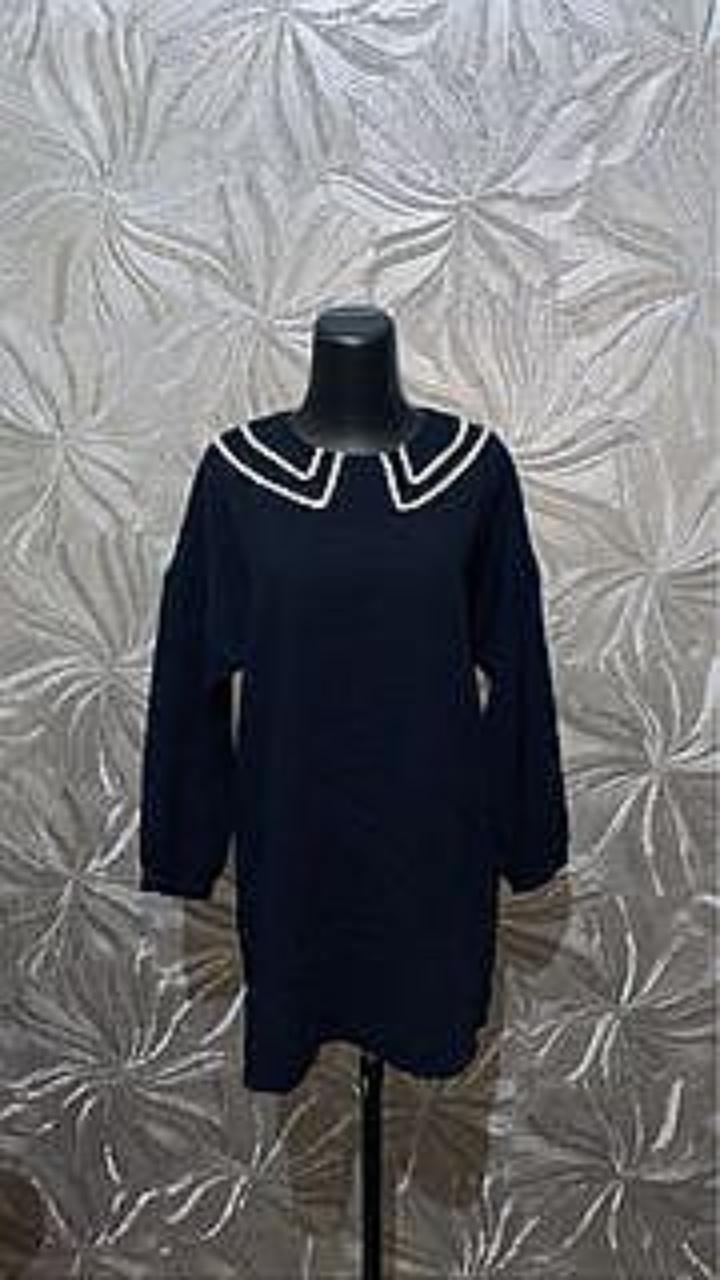T-Shirt: (140, 407, 567, 1091)
